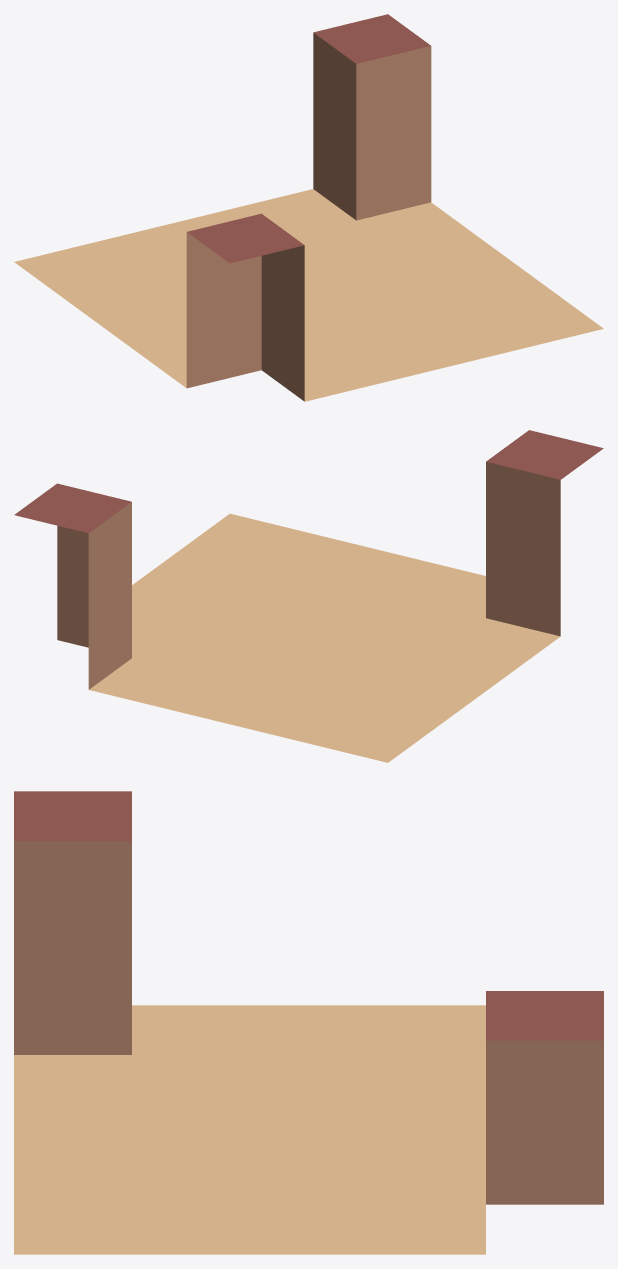
File: SM_Tile_Tips_Diagonal.fbx
3 views of the same model, one above another, from view 1: azimuth 30°, elevation 25°; view 2: azimuth 150°, elevation 25°; view 3: azimuth 270°, elevation 25° (orthographic). The views are drawn at different scales.
Parts seen in each view (by area): view 1: SM_Tile_Tips_Diagonal; view 2: SM_Tile_Tips_Diagonal; view 3: SM_Tile_Tips_Diagonal.
Boxes of the visible parts, x1,y1,x2,y2 form: SM_Tile_Tips_Diagonal: (14,14,603,401); SM_Tile_Tips_Diagonal: (14,430,603,762); SM_Tile_Tips_Diagonal: (14,791,603,1254).
Size of the model in its own units: 500 by 200 by 500.
